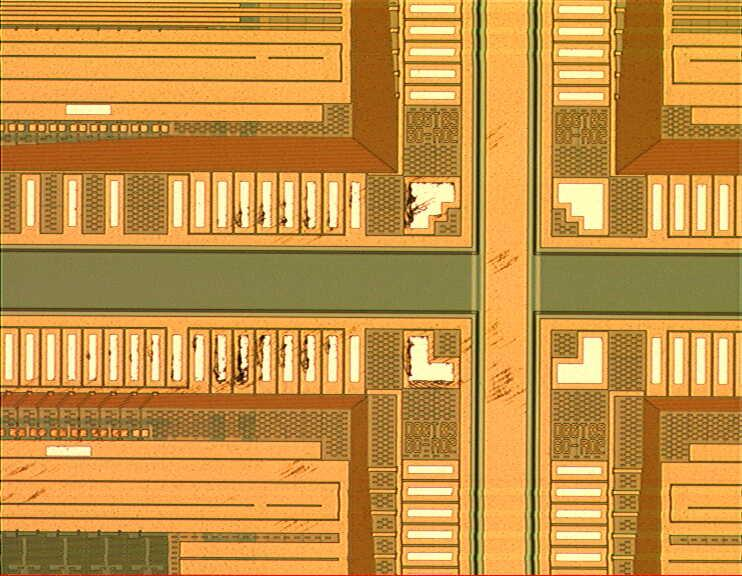SCRATCH: (1, 120, 554, 547)
